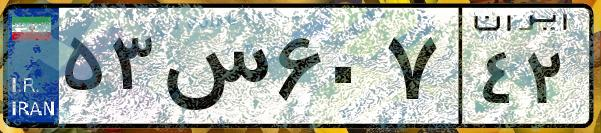0: (330, 28, 385, 110)
2: (525, 38, 570, 115)
3: (110, 28, 158, 98)
4: (475, 38, 525, 113)
5: (57, 26, 110, 100)
6: (270, 28, 330, 110)
7: (385, 28, 445, 110)
س: (158, 20, 270, 120)
